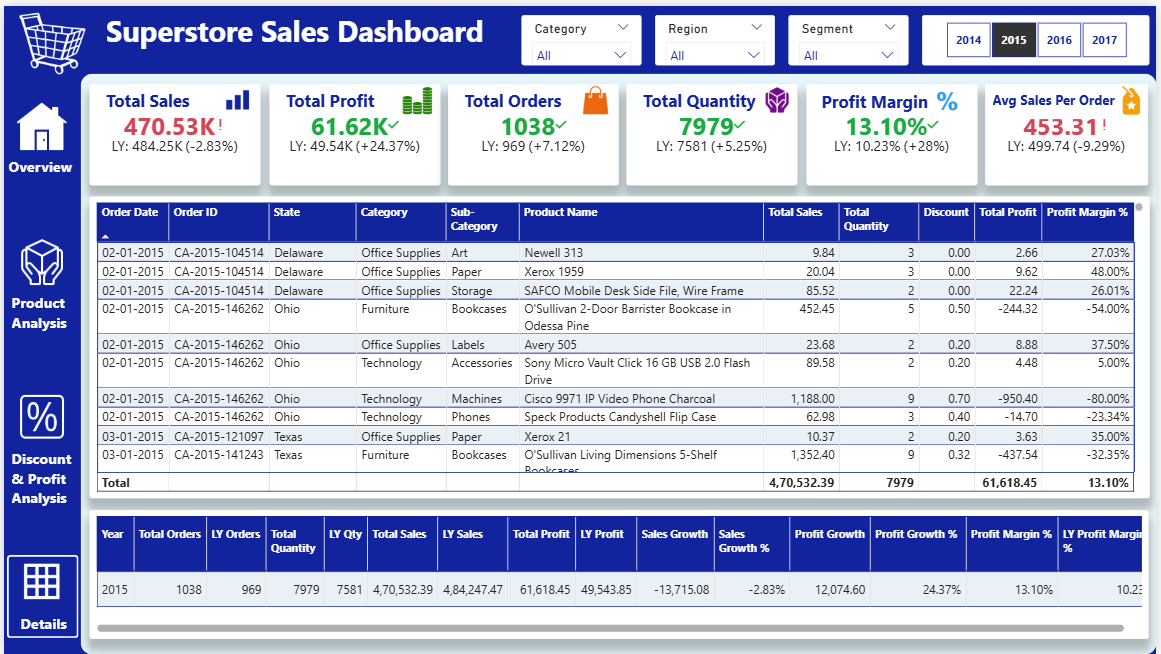

This screenshot's page, from the dashboard's own definition file:
{"tool":"powerbi","page":{"name":"Details","canvas":[1280,720],"ordinal":3},"visuals":[{"type":"shape","box":[85.7,75.7,1195.7,645.7],"z":0},{"type":"slicer","fields":{"Values":["Date.Year"]},"box":[1019.6,9.5,252.9,55.7],"z":1000},{"type":"group","id":"g1","title":"Group 1","box":[95.7,86.6,190,112.9],"z":2000},{"type":"kpi","fields":{"Indicator":["key_measures.Total Sales"],"TrendLine":["Date.Year"],"Goal":["key_measures.LY Sales Display"]},"box":[95.7,86.6,190,112.9],"z":2000,"group":"g1"},{"type":"kpi","fields":{"TrendLine":["Date.Year"],"Indicator":["key_measures.Total Profit"],"Goal":["key_measures.Last Year Profit"]},"box":[294.4,86.6,190,112.9],"z":2000,"group":"g2"},{"type":"kpi","fields":{"TrendLine":["Date.Year"],"Indicator":["key_measures.Total Orders"],"Goal":["key_measures.LY Orders"]},"box":[493.3,86.6,190,112.9],"z":2000,"group":"g4"},{"type":"kpi","fields":{"TrendLine":["Date.Year"],"Indicator":["key_measures.Total Quantity"],"Goal":["key_measures.Last Year Qty"]},"box":[692.2,86.6,190,112.9],"z":2000,"group":"g5"},{"type":"kpi","fields":{"TrendLine":["Date.Year"],"Indicator":["key_measures.Profit Margin %"],"Goal":["key_measures.LY Profit Margin %"]},"box":[891,86.6,190,112.9],"z":2000,"group":"g6"},{"type":"kpi","fields":{"TrendLine":["Date.Year"],"Indicator":["key_measures.Average Sales Per Order"],"Goal":["key_measures.LY Avg sales per order"]},"box":[1090,87.1,181.4,112.9],"z":2000,"group":"g3"},{"type":"textbox","box":[108.4,86.6,133.6,35],"z":3000,"group":"g1"},{"type":"group","id":"g2","title":"Group 1","box":[294.4,86.6,190,112.9],"z":3000},{"type":"textbox","box":[307.1,86.6,133.6,35],"z":3000,"group":"g2"},{"type":"textbox","box":[506,86.6,133.6,35],"z":3000,"group":"g4"},{"type":"textbox","box":[704.9,86.6,137,35],"z":3000,"group":"g5"},{"type":"textbox","box":[903.5,87.9,144.3,34.4],"z":3000,"group":"g6"},{"type":"textbox","box":[1092.7,89,155.7,37.1],"z":3000,"group":"g3"},{"type":"group","id":"g3","title":"Group 1","box":[1090,87.1,181.4,112.9],"z":4000},{"type":"group","id":"g4","title":"Group 1","box":[493.3,86.6,190,112.9],"z":5000},{"type":"group","id":"g5","title":"Group 1","box":[692.2,86.6,190,112.9],"z":6000},{"type":"group","id":"g6","title":"Group 1","box":[891,86.6,190,112.9],"z":7000},{"type":"image","box":[242,88.9,34.6,32.1],"z":8000},{"type":"image","box":[639.5,88.9,34.6,32.1],"z":9000},{"type":"image","box":[842,88.9,34.6,32.1],"z":10000},{"type":"image","box":[1030.2,90.1,35.4,32.3],"z":11000},{"type":"image","box":[1235.7,88.6,35.7,32.9],"z":12000},{"type":"image","box":[440.8,88.7,35.2,32.4],"z":13000},{"type":"tableEx","fields":{"Values":["Superstore.Order Date","Superstore.Order ID","Superstore.State","Superstore.Category","Superstore.Sub-Category","Superstore.Product Name","key_measures.Total Sales","key_measures.Total Quantity","Superstore.Discount","key_measures.Total Profit","key_measures.Profit Margin %"]},"box":[94.9,211.9,1178,335.6],"z":14000},{"type":"textbox","box":[107.8,0,433.3,55.8],"z":15000},{"type":"slicer","fields":{"Values":["Superstore.Region"]},"box":[722.7,9.5,133.6,55.7],"z":16000},{"type":"slicer","fields":{"Values":["Superstore.Segment"]},"box":[871.1,9.5,133.6,55.7],"z":17000},{"type":"image","box":[0,0,108.6,80],"z":18000},{"type":"image","box":[12.7,105,57.3,60.4],"z":19000},{"type":"textbox","box":[0,162.2,85.9,36.6],"z":20000},{"type":"shape","box":[3.2,610.8,79.5,92.3],"z":21000},{"type":"slicer","fields":{"Values":["Superstore.Category"]},"box":[574.2,9.5,133.6,55.7],"z":22000},{"type":"image","box":[13.5,254.2,57.8,59.7],"z":23000},{"type":"textbox","box":[3.2,313.4,82.7,57.3],"z":24000},{"type":"card","fields":{"Values":["key_measures.LY_Message"]},"box":[177.2,48.1,300.4,27],"z":25000},{"type":"image","box":[13.5,426.9,57.7,59.6],"z":26000},{"type":"textbox","box":[3.8,486.5,82.7,90.4],"z":27000},{"type":"image","box":[12.7,610.8,57.3,58.9],"z":28000},{"type":"textbox","box":[12.7,669.6,65,36.6],"z":29000},{"type":"tableEx","fields":{"Values":["Date.Year","key_measures.Total Orders","key_measures.LY Orders","key_measures.Total Quantity","key_measures.LY Qty","key_measures.Total Sales","key_measures.LY Sales","key_measures.Total Profit","key_measures.Last Year Profit","key_measures.Sales Growth","key_measures.Sales Growth %","key_measures.Profit Growth"]},"box":[95.4,560,1176.9,143.1],"z":29001}]}

Visuals, with their boxes in screenshot pixels (x1, y1, x2, y2), scaled from the page's 1280x720 canvas onto the 1161x654 screenshot:
shape: x1=78 y1=69 x2=1160 y2=653
slicer - Date.Year: x1=925 y1=9 x2=1154 y2=59
"Group 1" group: x1=87 y1=79 x2=259 y2=181
kpi - key_measures.Total Sales x Date.Year: x1=87 y1=79 x2=259 y2=181
kpi - Date.Year x key_measures.Total Profit: x1=267 y1=79 x2=439 y2=181
kpi - Date.Year x key_measures.Total Orders: x1=447 y1=79 x2=620 y2=181
kpi - Date.Year x key_measures.Total Quantity: x1=628 y1=79 x2=800 y2=181
kpi - Date.Year x key_measures.Profit Margin %: x1=808 y1=79 x2=981 y2=181
kpi - Date.Year x key_measures.Average Sales Per Order: x1=989 y1=79 x2=1153 y2=182
textbox: x1=98 y1=79 x2=220 y2=110
"Group 1" group: x1=267 y1=79 x2=439 y2=181
textbox: x1=279 y1=79 x2=400 y2=110
textbox: x1=459 y1=79 x2=580 y2=110
textbox: x1=639 y1=79 x2=764 y2=110
textbox: x1=820 y1=80 x2=950 y2=111
textbox: x1=991 y1=81 x2=1132 y2=115
"Group 1" group: x1=989 y1=79 x2=1153 y2=182
"Group 1" group: x1=447 y1=79 x2=620 y2=181
"Group 1" group: x1=628 y1=79 x2=800 y2=181
"Group 1" group: x1=808 y1=79 x2=981 y2=181
image: x1=220 y1=81 x2=251 y2=110
image: x1=580 y1=81 x2=611 y2=110
image: x1=764 y1=81 x2=795 y2=110
image: x1=934 y1=82 x2=967 y2=111
image: x1=1121 y1=80 x2=1153 y2=110
image: x1=400 y1=81 x2=432 y2=110
tableEx - Superstore.Order Date x Superstore.Order ID: x1=86 y1=192 x2=1155 y2=497
textbox: x1=98 y1=0 x2=491 y2=51
slicer - Superstore.Region: x1=656 y1=9 x2=777 y2=59
slicer - Superstore.Segment: x1=790 y1=9 x2=911 y2=59
image: x1=0 y1=0 x2=99 y2=73
image: x1=12 y1=95 x2=63 y2=150
textbox: x1=0 y1=147 x2=78 y2=181
shape: x1=3 y1=555 x2=75 y2=639
slicer - Superstore.Category: x1=521 y1=9 x2=642 y2=59
image: x1=12 y1=231 x2=65 y2=285
textbox: x1=3 y1=285 x2=78 y2=337
card - key_measures.LY_Message: x1=161 y1=44 x2=433 y2=68
image: x1=12 y1=388 x2=65 y2=442
textbox: x1=3 y1=442 x2=78 y2=524
image: x1=12 y1=555 x2=63 y2=608
textbox: x1=12 y1=608 x2=70 y2=641
tableEx - Date.Year x key_measures.Total Orders: x1=87 y1=509 x2=1154 y2=639
